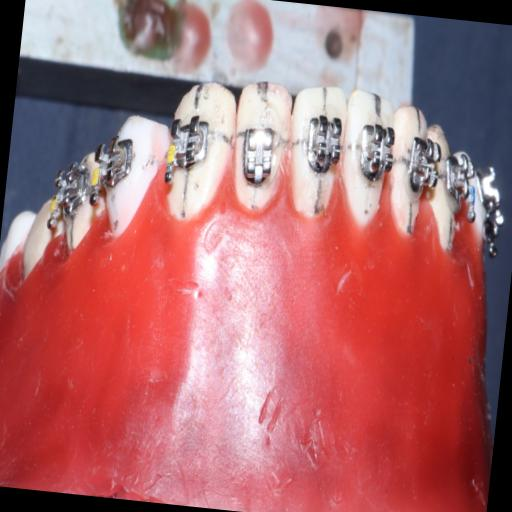correct_brace: (300, 107, 346, 180)
incorrect_brace: (224, 71, 296, 219), (235, 118, 282, 193)
